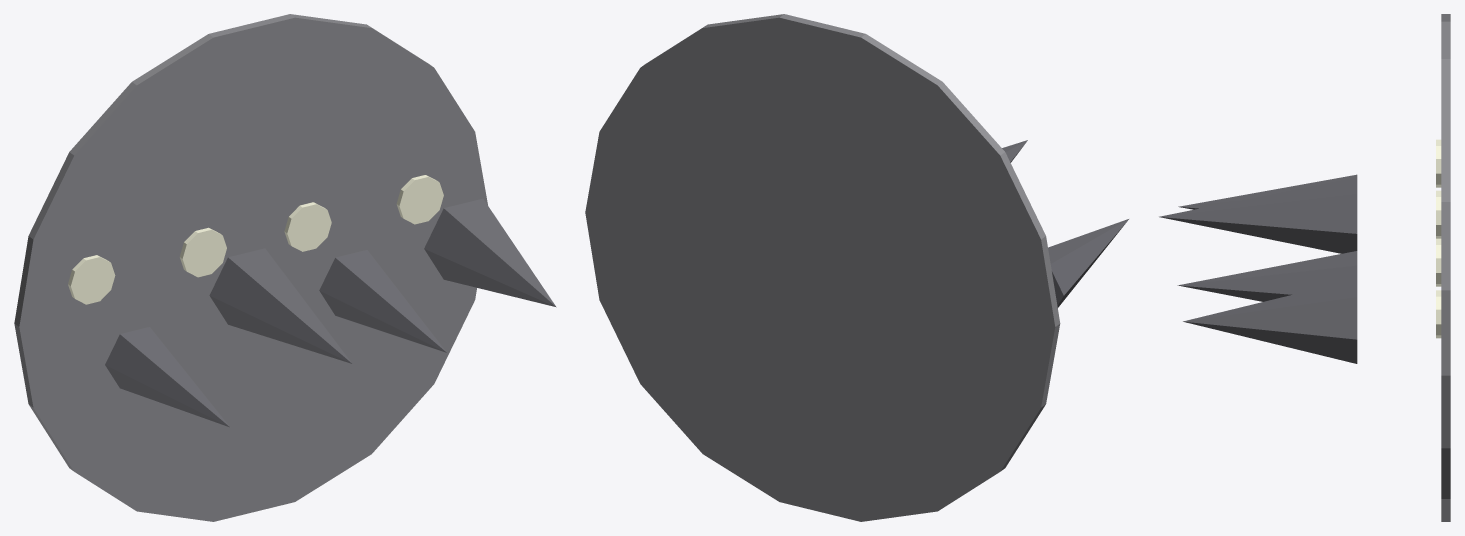
Rendered from 04_event_hazard_cluster.glb.
3 views of the same model, side by side, from view 1: azimuth 30°, elevation 25°; view 2: azimuth 150°, elevation 25°; view 3: azimuth 270°, elevation 25° (orthographic). The views are drawn at different scales.
Visible parts, largest first — view 1: scatter_base, basalt_shard_1, basalt_shard_3, basalt_shard_2, basalt_shard_0, lava_glow_3, lava_glow_1, lava_glow_2, lava_glow_0; view 2: scatter_base, basalt_shard_0; view 3: basalt_shard_1, basalt_shard_3, scatter_base, basalt_shard_2, basalt_shard_0.
Boxes of the visible parts, <box> form: scatter_base: <box>14,14,487,521</box>; basalt_shard_1: <box>209,248,352,363</box>; basalt_shard_3: <box>424,198,556,307</box>; basalt_shard_2: <box>319,250,446,352</box>; basalt_shard_0: <box>105,327,229,427</box>; lava_glow_3: <box>396,175,443,224</box>; lava_glow_1: <box>180,227,226,277</box>; lava_glow_2: <box>284,202,331,251</box>; lava_glow_0: <box>68,255,115,304</box>; scatter_base: <box>585,14,1060,521</box>; basalt_shard_0: <box>1048,219,1128,307</box>; basalt_shard_1: <box>1159,177,1357,253</box>; basalt_shard_3: <box>1183,279,1357,363</box>; scatter_base: <box>1441,14,1450,521</box>; basalt_shard_2: <box>1177,251,1357,301</box>; basalt_shard_0: <box>1178,174,1357,209</box>.
Size of the model in its own units: 1.9 by 1.87 by 1.09.
